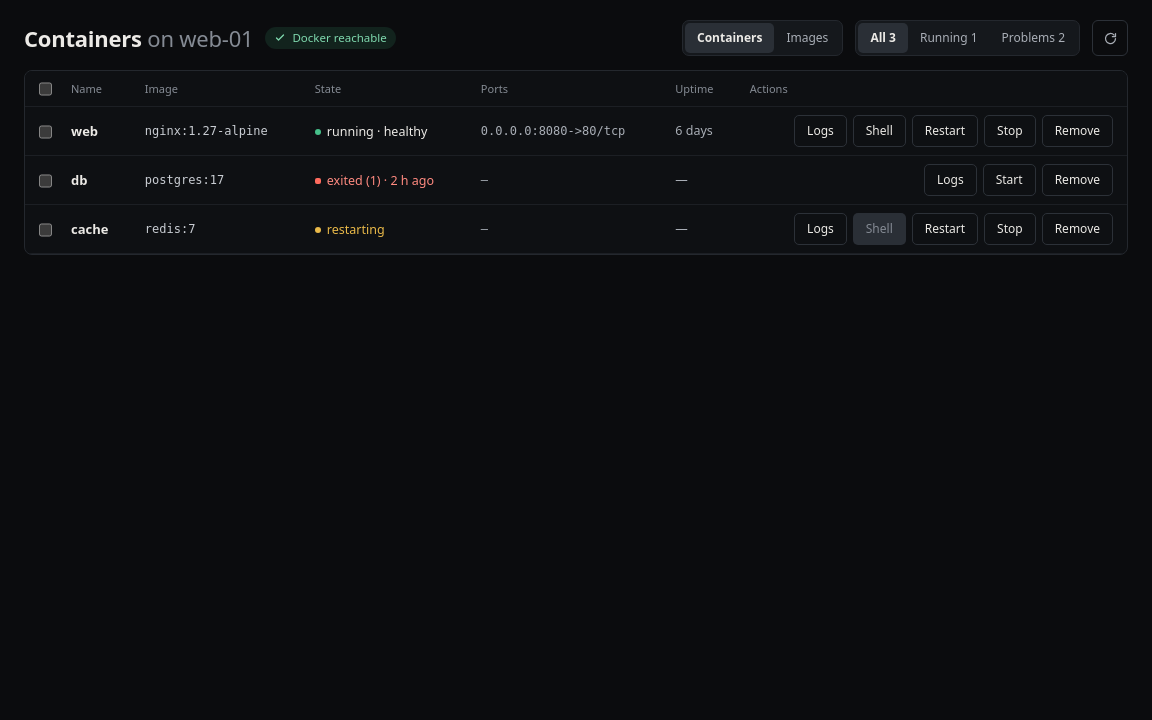
it: DockerWorkspace › asks before stopping and does nothing when cancelled
Expected: the text "Docker reachable" is shown, [266,27,396,49]
Click the button with aria-label "Stop web": (1010, 131) [984,115,1036,147]
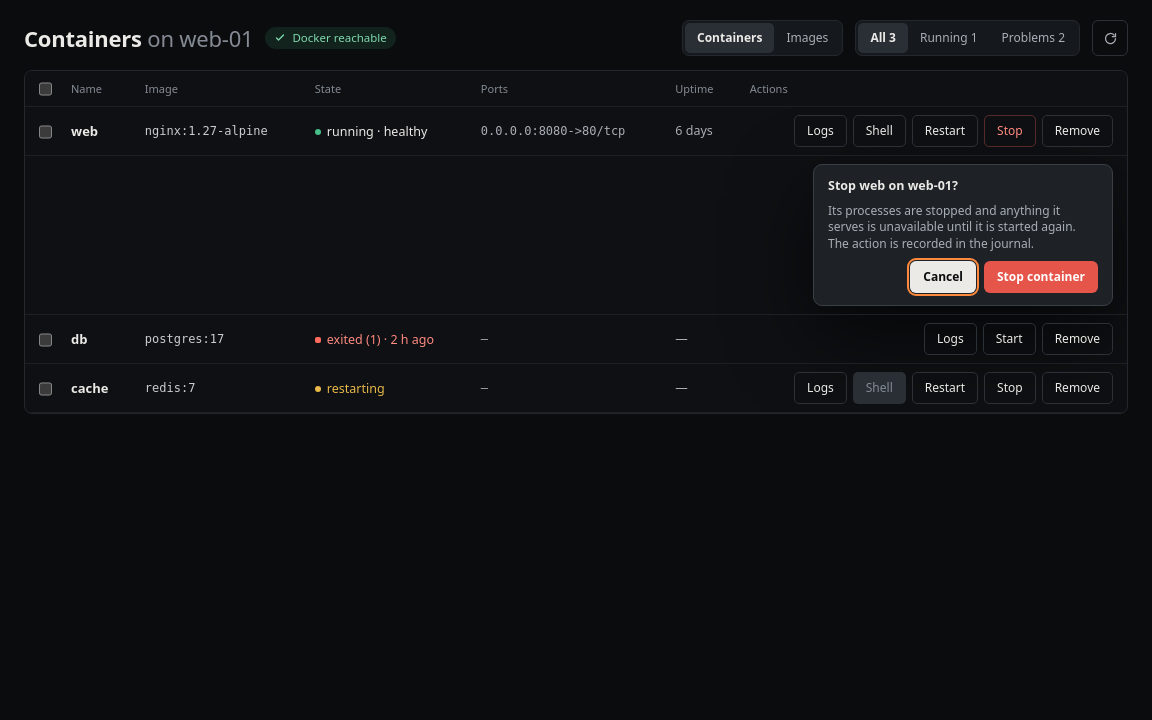
Now the dialog shows "Stop web on web-01?", box [828,177,958,194]
Click the button "Cancel": (943, 277) [910,261,976,293]
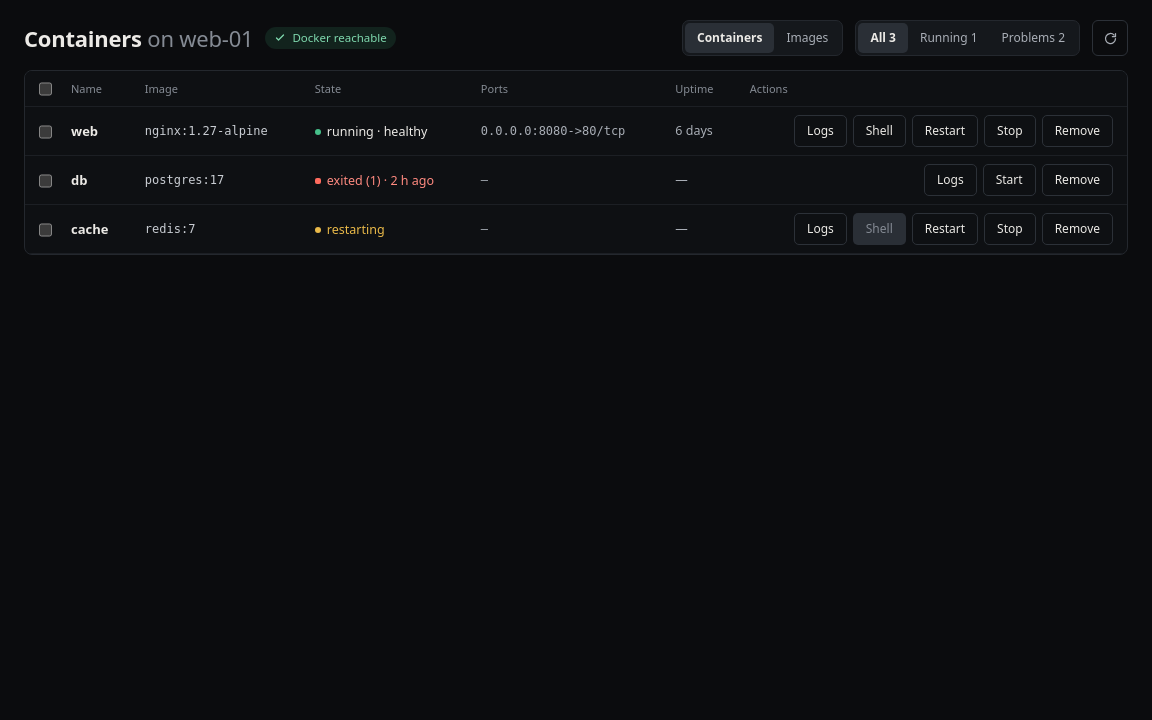
Now the dialog is gone
